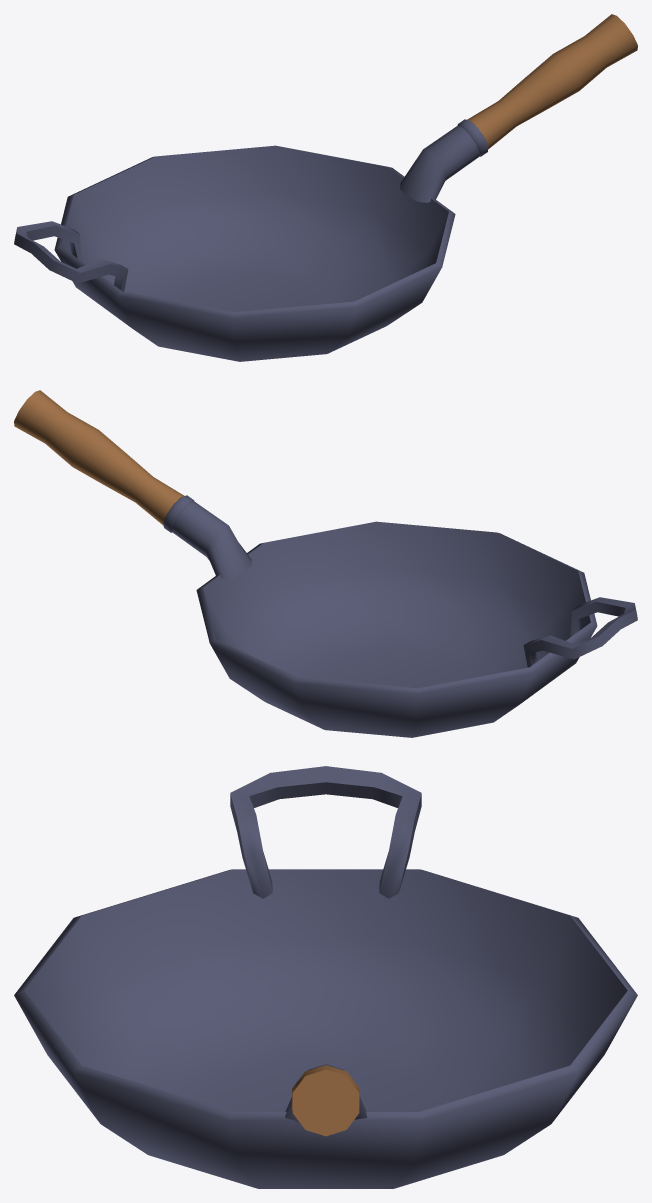
Rendered from WokPan.fbx.
3 views of the same model, one above another, from view 1: azimuth 30°, elevation 25°; view 2: azimuth 150°, elevation 25°; view 3: azimuth 270°, elevation 25° (orthographic). The views are drawn at different scales.
Parts seen in each view (by area): view 1: WokPan; view 2: WokPan; view 3: WokPan.
Boxes of the visible parts, left/top/right/bottom form: WokPan: left=14, top=14, right=637, bottom=361; WokPan: left=14, top=390, right=637, bottom=737; WokPan: left=14, top=766, right=637, bottom=1188.
Bounding box in the file's own units: 174 × 57.43 × 103.
